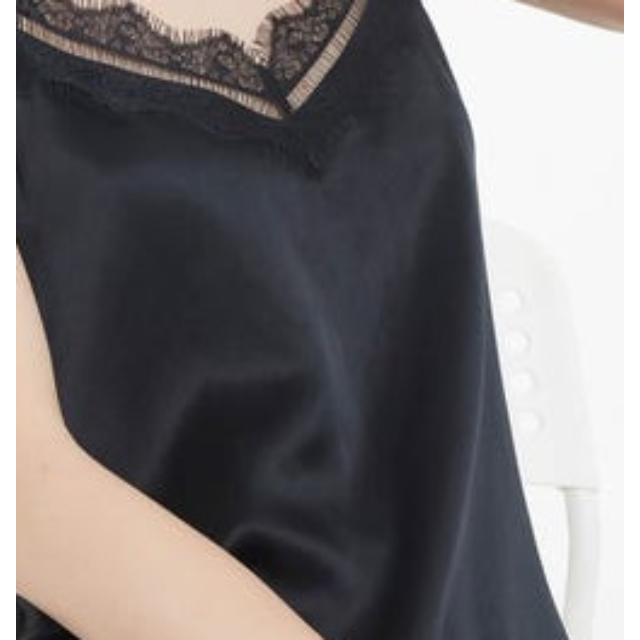silk: (16, 0, 486, 640)
